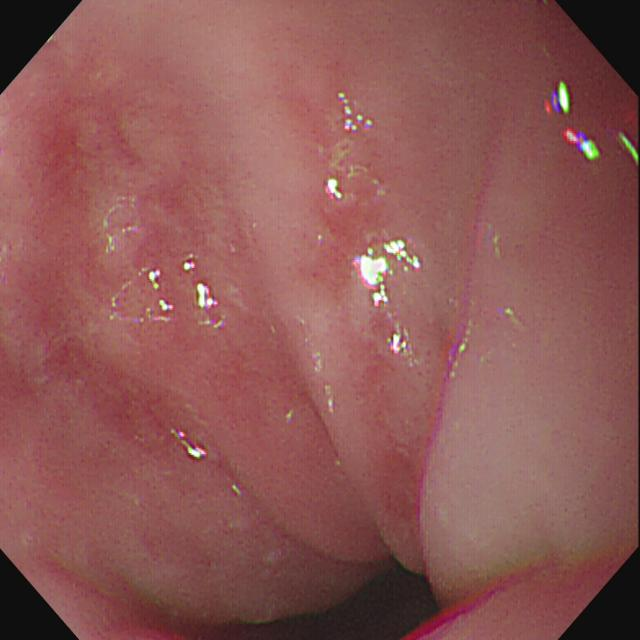A: (2, 333, 165, 446), (30, 94, 142, 206), (134, 173, 223, 266), (17, 256, 99, 328), (368, 425, 420, 527), (311, 209, 354, 293)
E: (266, 564, 438, 640)
U: (354, 240, 422, 310), (339, 92, 375, 137), (563, 128, 600, 162), (172, 429, 208, 463), (611, 126, 640, 164), (543, 82, 573, 117), (198, 285, 219, 311), (388, 333, 409, 356), (325, 178, 343, 201), (148, 270, 163, 291), (159, 299, 175, 314)
